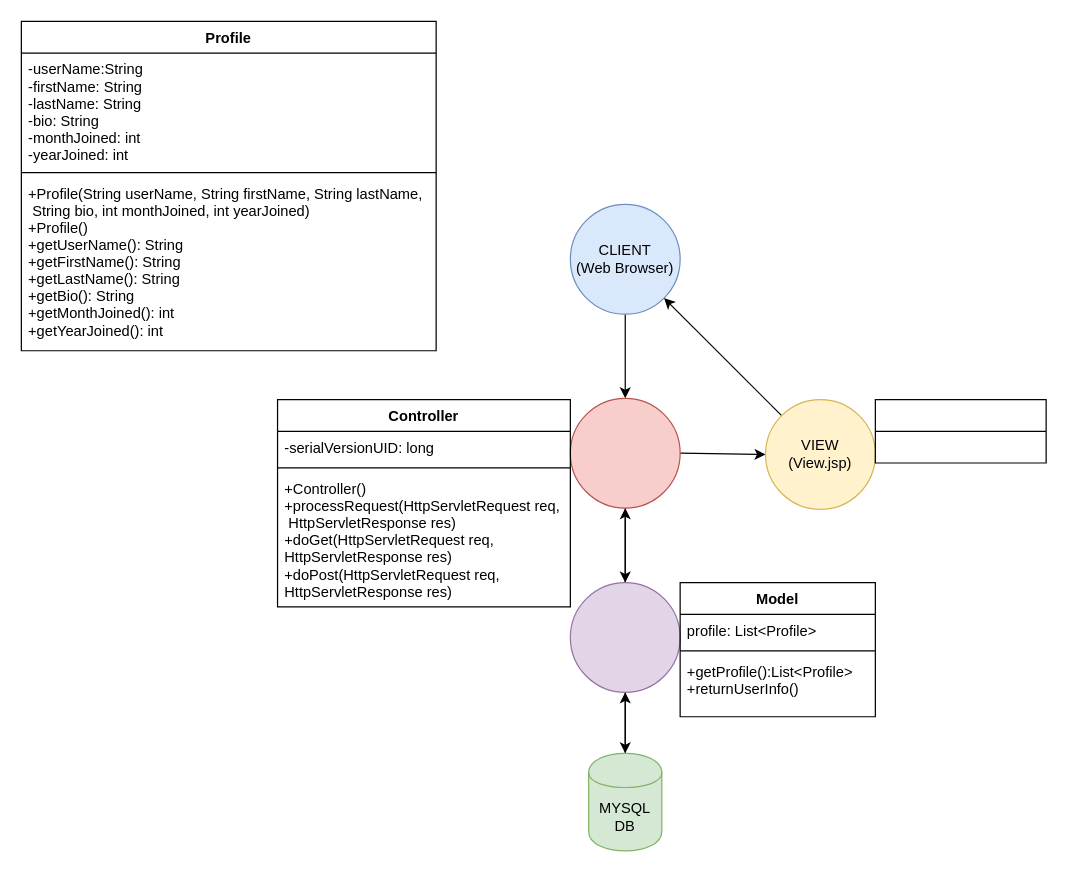
Image size: 1068x872. Some labels were removed from this diagram. The shapes that lost their labels are listed below. From the top down, each one's centre as x and y in pixels, then its label:
At point 960,430: "View".
At point 624,452: "CONTROLLER (Controller.java)".
At point 624,636: "MODEL (Model.java)".
